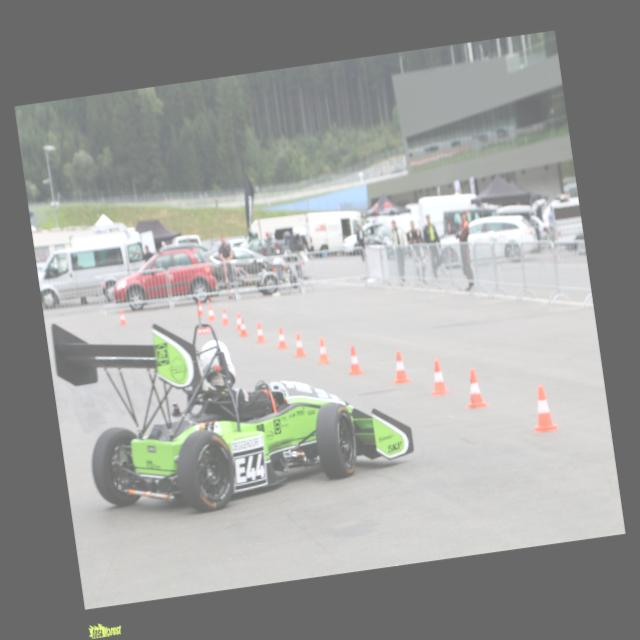orange_cone: (528, 384, 558, 434), (460, 366, 490, 409), (426, 358, 449, 396), (389, 350, 412, 386), (344, 344, 364, 376), (314, 336, 331, 365), (292, 332, 308, 358), (274, 326, 288, 350), (253, 321, 267, 344), (237, 318, 250, 338), (219, 307, 231, 327), (233, 312, 244, 332), (206, 304, 217, 322), (118, 309, 128, 326), (195, 300, 205, 317)
